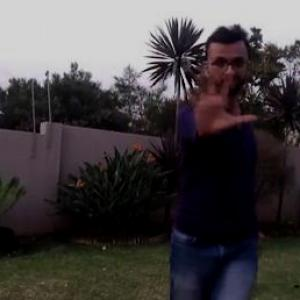follow_hand: (176, 56, 262, 142)
